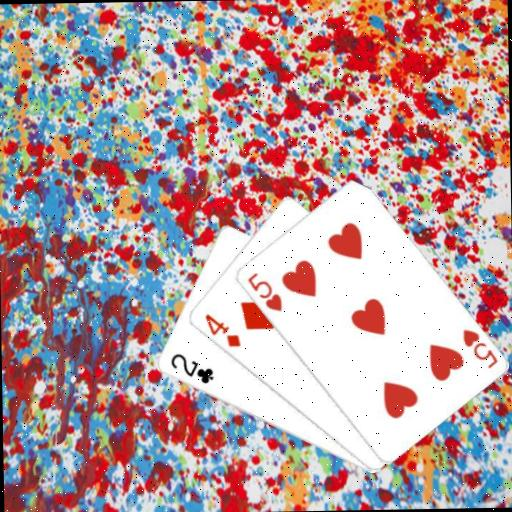2C: (167, 350, 215, 386)
4D: (201, 310, 242, 349)
5H: (458, 325, 499, 371), (244, 268, 284, 314)
